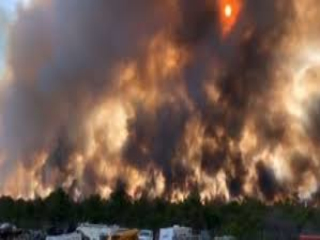smoke: (123, 77, 215, 198)
